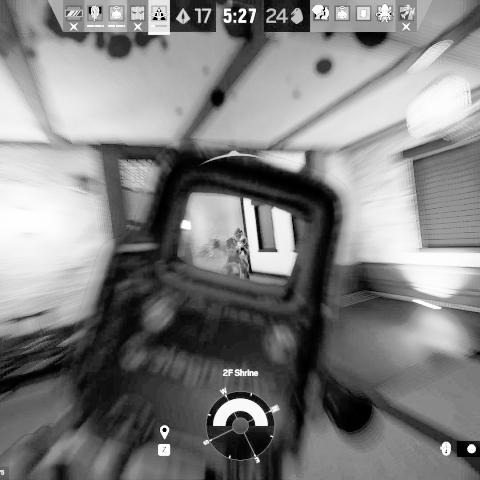Character: (224, 227, 252, 282)
Head: (234, 228, 244, 240)
